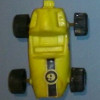amarillo_sur: (12, 1, 87, 97)
